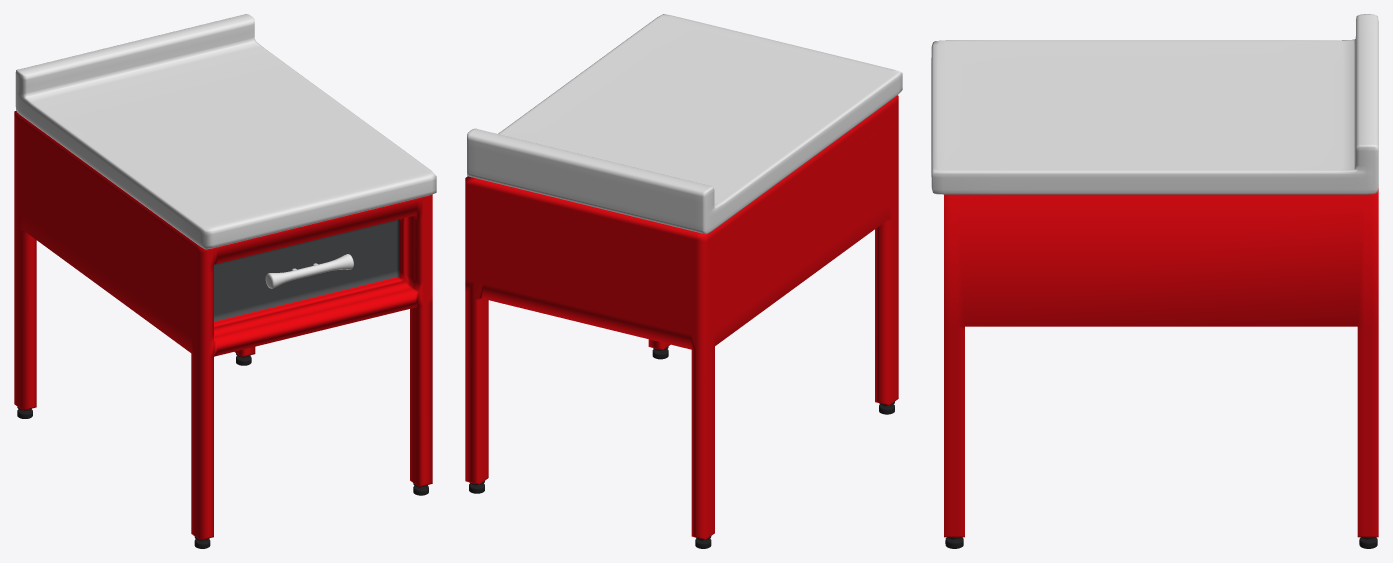
The model's file is table.fbx.
The picture shows the model from 3 angles, left to right: view 1: azimuth 30°, elevation 25°; view 2: azimuth 150°, elevation 25°; view 3: azimuth 270°, elevation 25°; orthographic projection. The views are drawn at different scales.
Visible parts, largest first — view 1: body; view 2: body; view 3: body.
Part boxes in pixels (bbox=[...]): body: bbox=[14, 14, 436, 548]; body: bbox=[465, 14, 902, 548]; body: bbox=[931, 14, 1378, 548].
Size of the model in its own units: 114 by 162 by 162.
